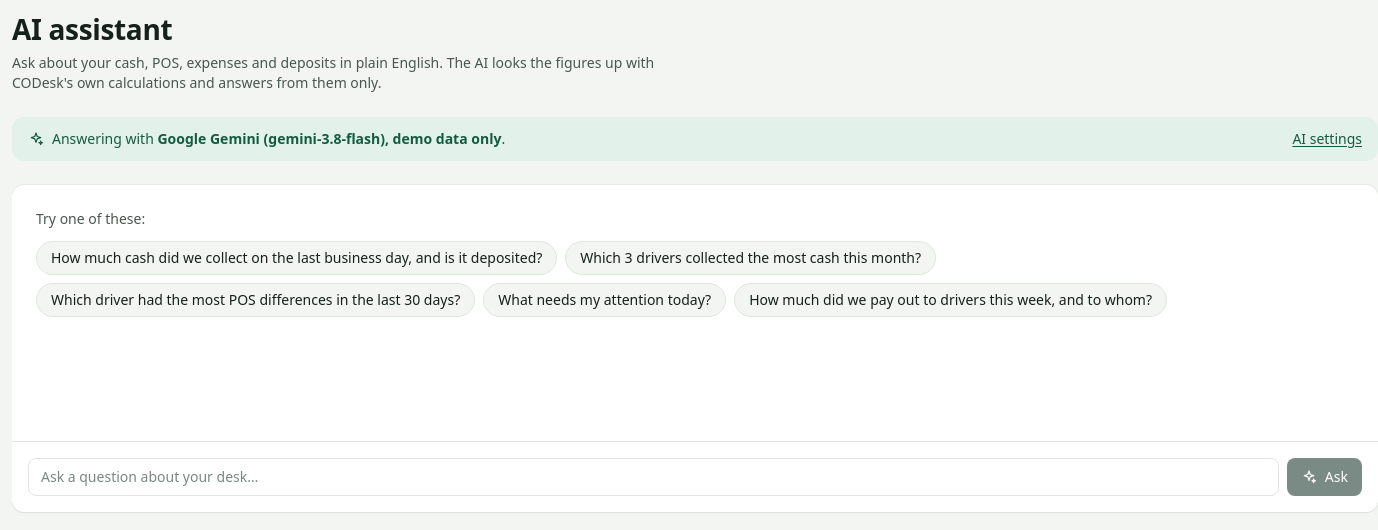
a question is answered with the figures it used
This screenshot has width=1378, height=530.
Check: the text "Google Gemini (gemini-3.8-flash), demo data only" is shown, box [158, 129, 501, 148]
Click the button "How much cash did we collect" at (297, 258), box [36, 241, 557, 275]
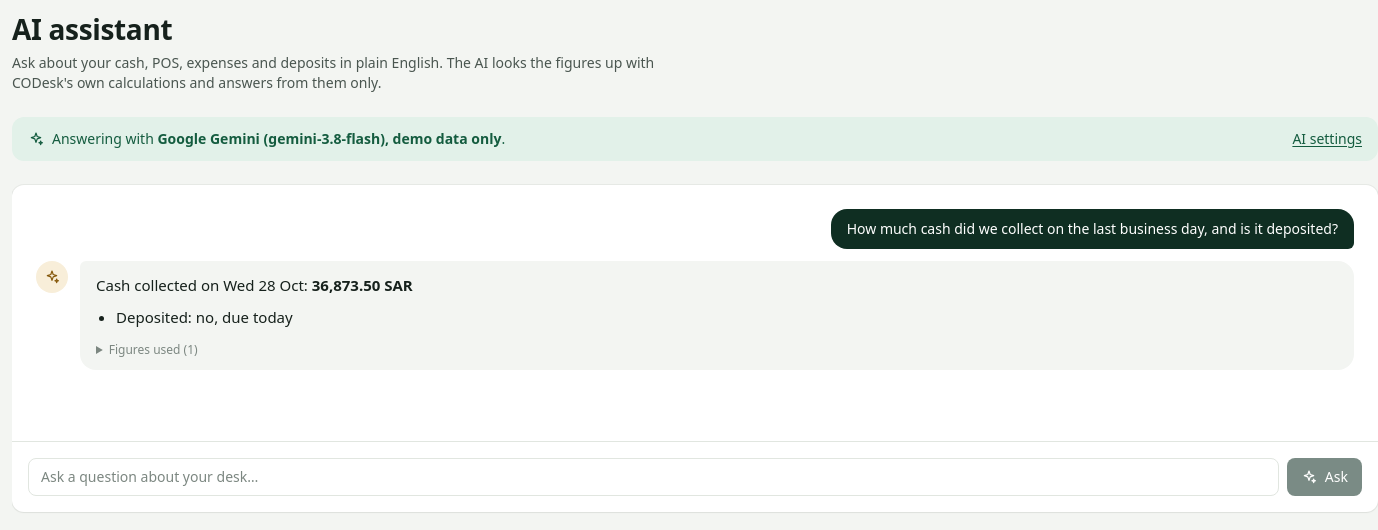
Check: the text "36,873.50 SAR" is shown, box [312, 275, 413, 295]
Check: the list item "Deposited: no, due today" is shown, box [116, 307, 293, 327]
Check: the heading "Figures used (1)" is shown, box [109, 341, 198, 358]
